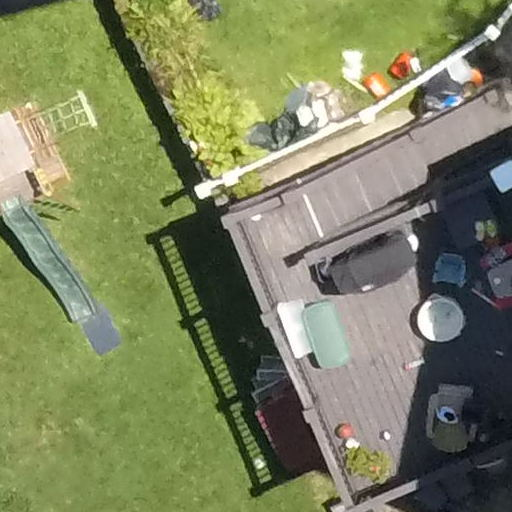bucket: (386, 48, 420, 83), (363, 69, 394, 101)
container: (301, 292, 355, 374), (275, 296, 316, 364)
